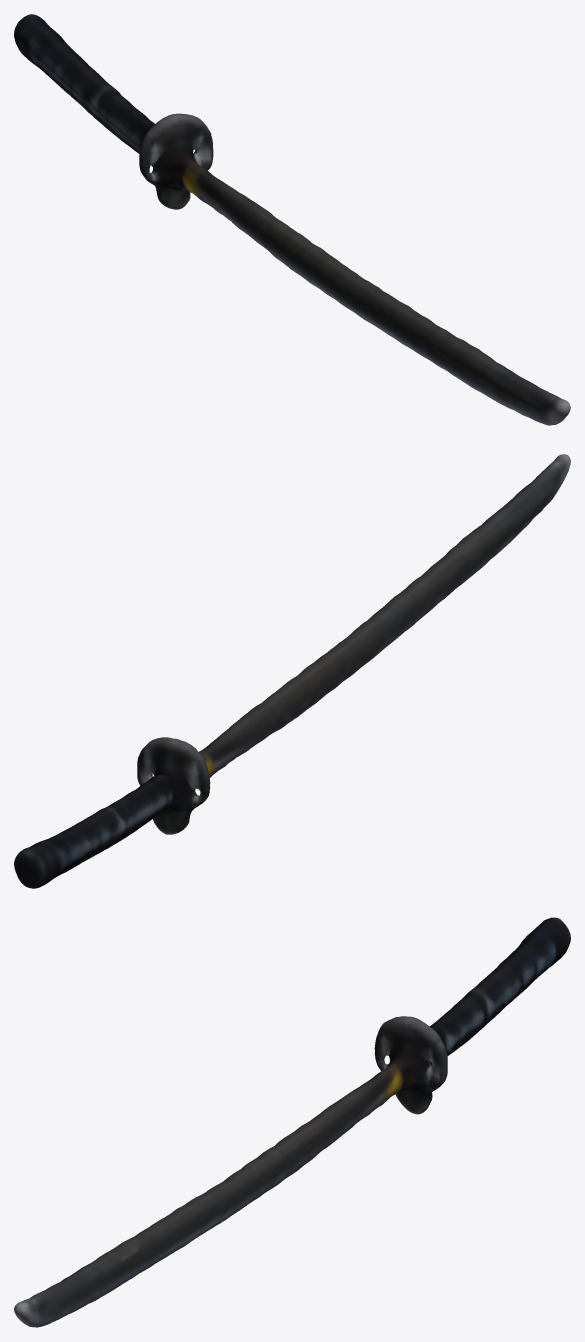
The model's file is Weapon_Katana_Black.glb.
3 renders of one model, top to bottom at view 1: azimuth 30°, elevation 25°; view 2: azimuth 150°, elevation 25°; view 3: azimuth 330°, elevation 25°, orthographic.
Parts seen in each view (by area): view 1: world; view 2: world; view 3: world.
Part boxes in pixels (bbox=[...]): world: bbox=[14, 14, 570, 425]; world: bbox=[14, 454, 570, 888]; world: bbox=[14, 917, 570, 1327].
Bounding box in the file's own units: 0.0462 × 0.0587 × 0.6039.
Materials: 1 (1 with a texture image).
